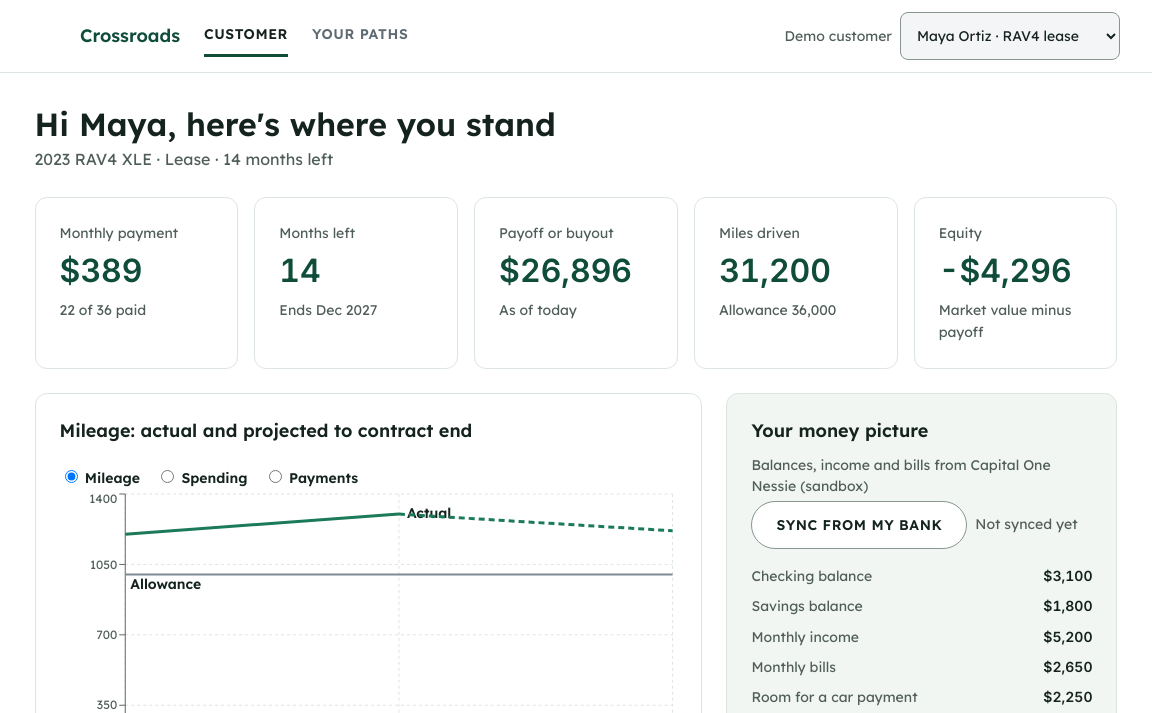
Test: Sync from my bank (FR-039) › says how long to wait when the limit is reached
The image size is (1152, 713).
Expected: the text "$3,100" is shown, [1043, 565, 1092, 587]
Click the button "Sync from my bank" at (859, 525), box [752, 501, 967, 549]
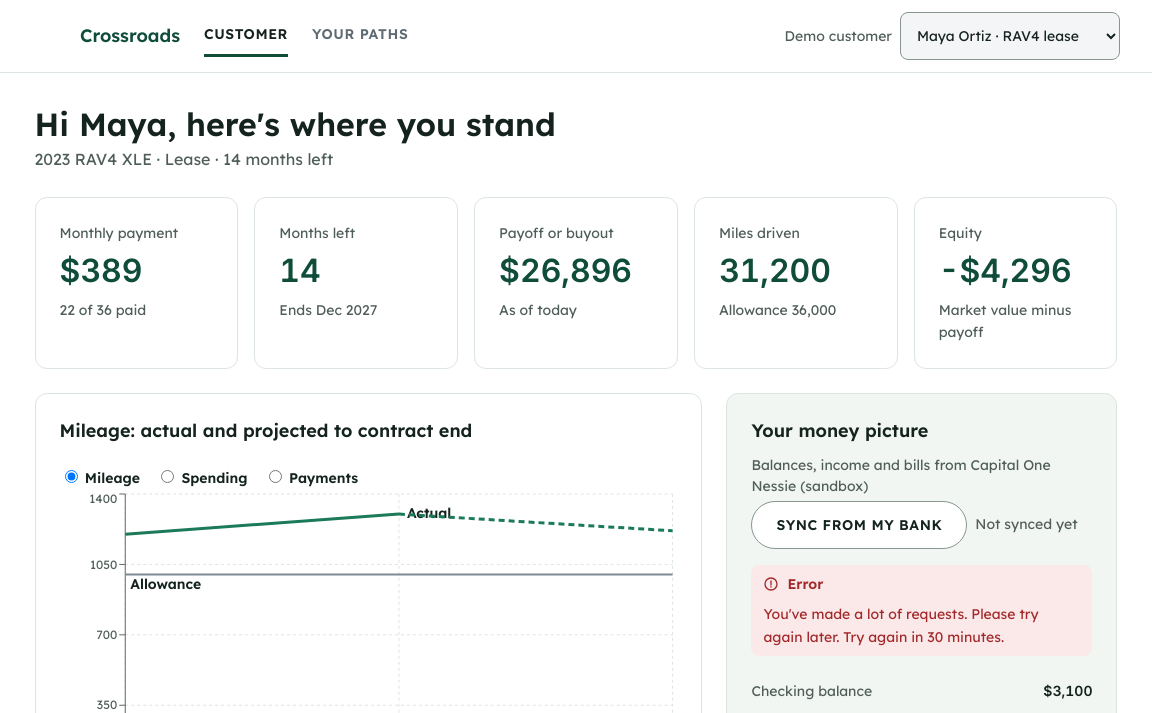
Expected: the message shows "Please try again later. Try again in 30 minutes.", [764, 605, 1039, 646]
